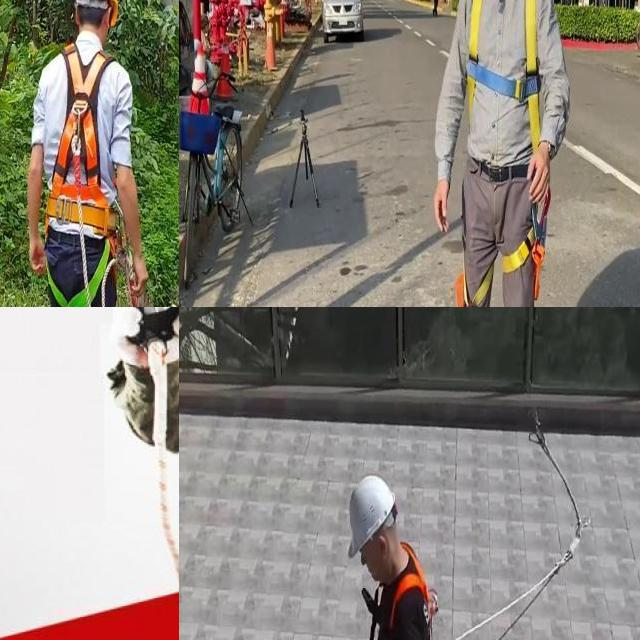Harness: (42, 42, 116, 307), (467, 0, 542, 148), (455, 198, 551, 307), (372, 548, 451, 640)
